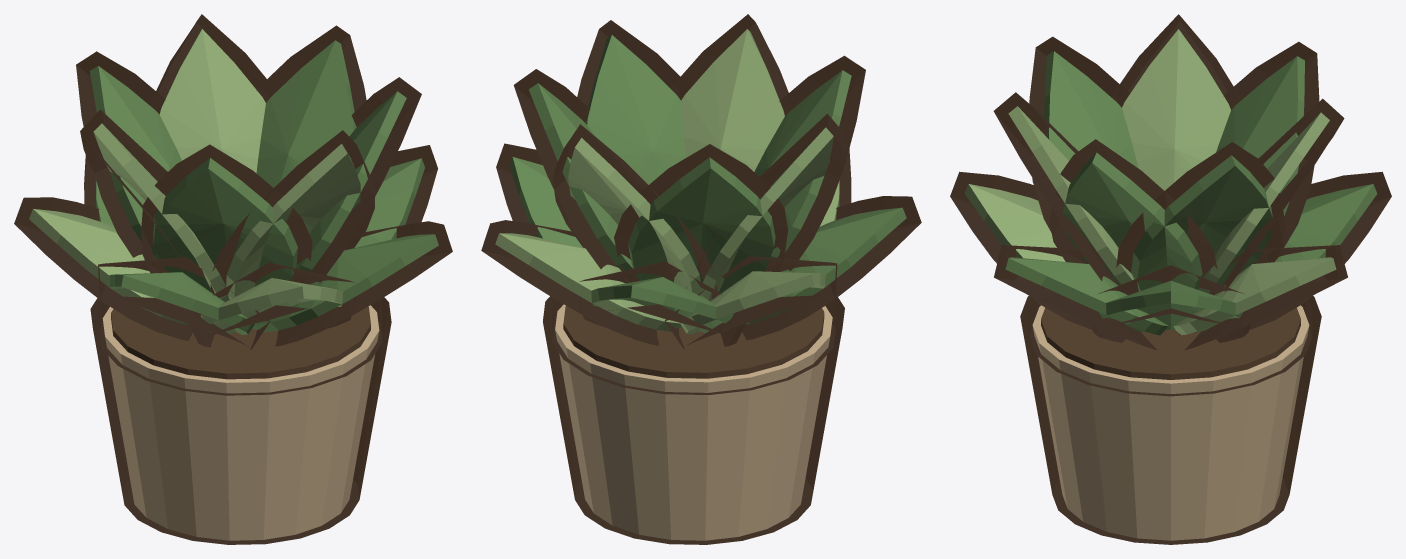
The model's file is succulent-plant.glb.
3 renders of one model, left to right at view 1: azimuth 30°, elevation 25°; view 2: azimuth 150°, elevation 25°; view 3: azimuth 270°, elevation 25°, orthographic.
Parts seen in each view (by area): view 1: succulent-plant, succulent-plant-outline; view 2: succulent-plant, succulent-plant-outline; view 3: succulent-plant, succulent-plant-outline.
Boxes of the visible parts, x1,y1,x2,y2 form: succulent-plant: (29,29,438,540); succulent-plant-outline: (14,14,452,544); succulent-plant: (495,29,906,540); succulent-plant-outline: (481,14,921,544); succulent-plant: (964,29,1377,540); succulent-plant-outline: (950,14,1391,544).
Bounding box in the file's own units: 0.4979 × 0.5323 × 0.5107.
